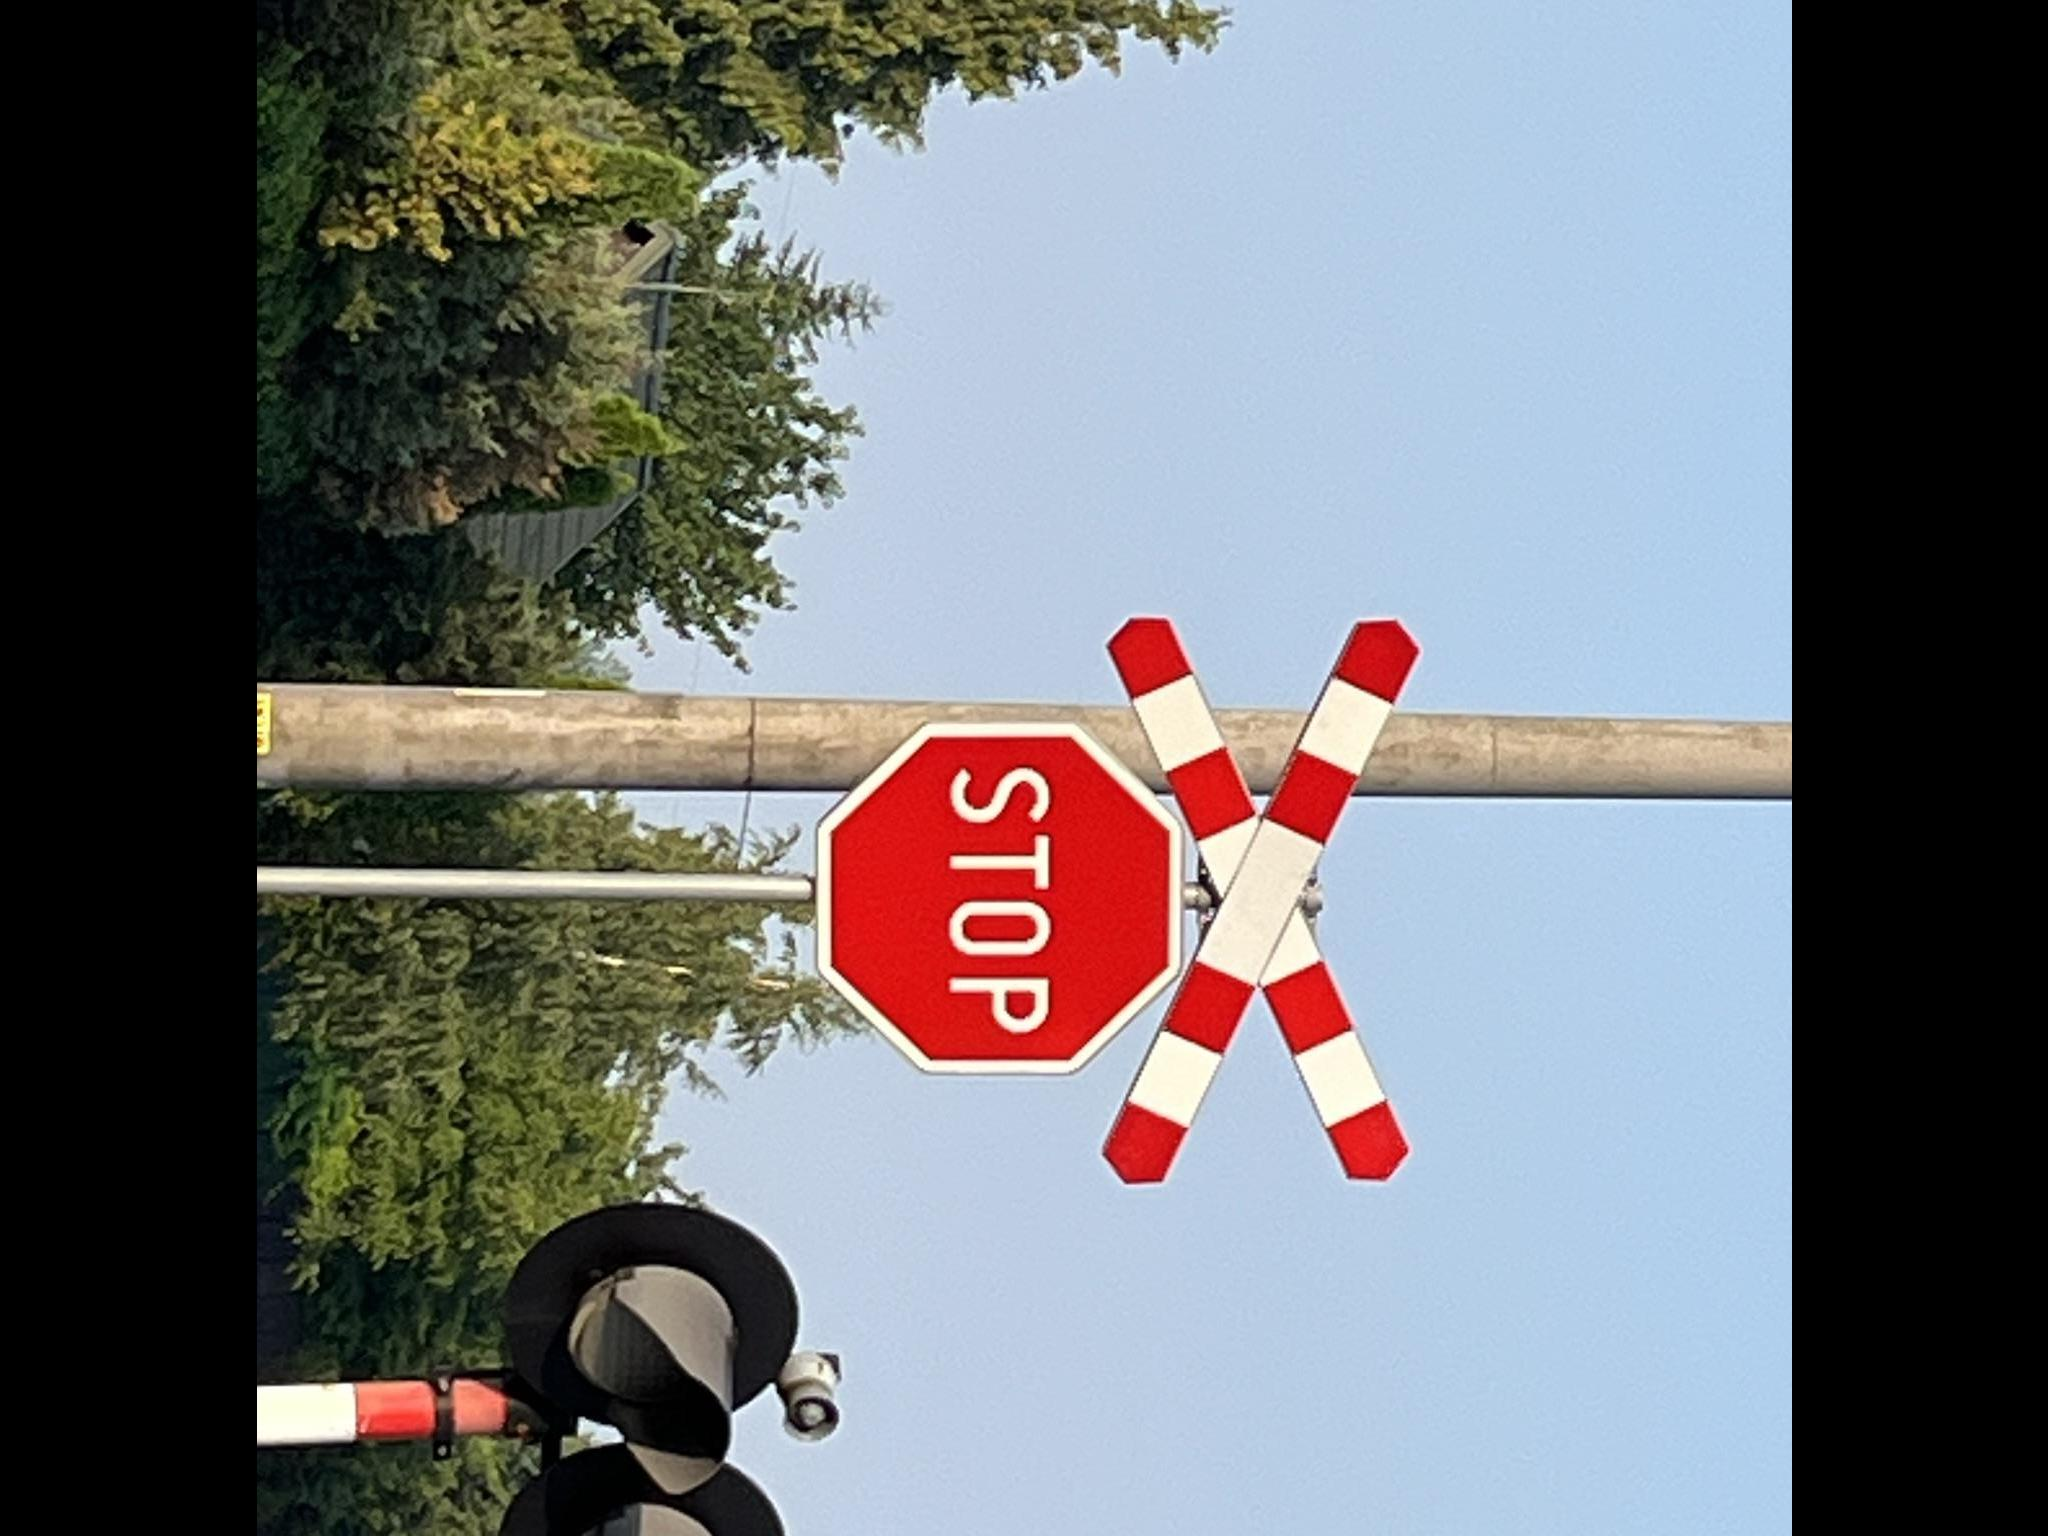prohibitory: (810, 720, 1182, 1076)
